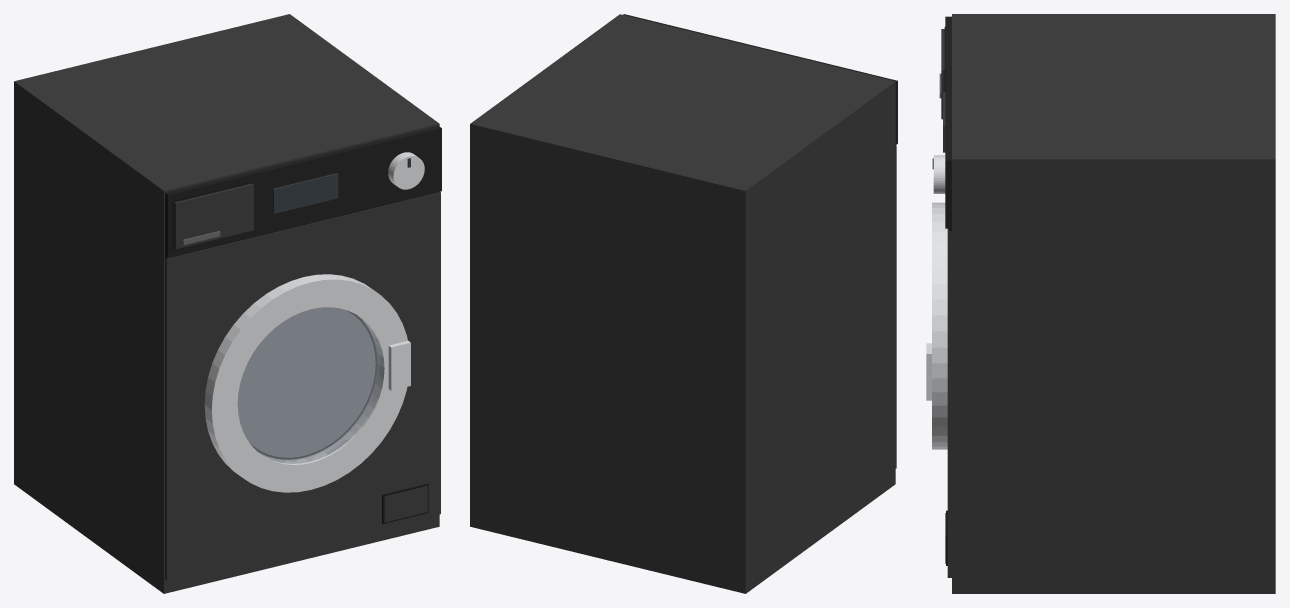
Rendered from waschmaschine-anthrazit.glb.
The picture shows the model from 3 angles, left to right: view 1: azimuth 30°, elevation 25°; view 2: azimuth 150°, elevation 25°; view 3: azimuth 270°, elevation 25°; orthographic projection. The views are drawn at different scales.
Visible parts, largest first — view 1: Gehäuse, Chrom, Glas, Trommel, Bedienblende, Display, Fuge; view 2: Gehäuse, Bedienblende; view 3: Gehäuse, Chrom, Bedienblende.
Part boxes in pixels (x1,y1,x2,y2): Gehäuse: (14,14,440,593); Chrom: (204,152,424,492); Glas: (237,307,383,463); Trommel: (238,307,375,457); Bedienblende: (165,126,441,257); Display: (273,158,410,213); Fuge: (165,181,439,523); Gehäuse: (470,14,896,593); Bedienblende: (623,14,897,144); Gehäuse: (941,14,1275,593); Chrom: (926,155,947,449); Bedienblende: (945,16,951,228).
Bounding box in the file's own units: 0.6 × 0.85 × 0.61.
